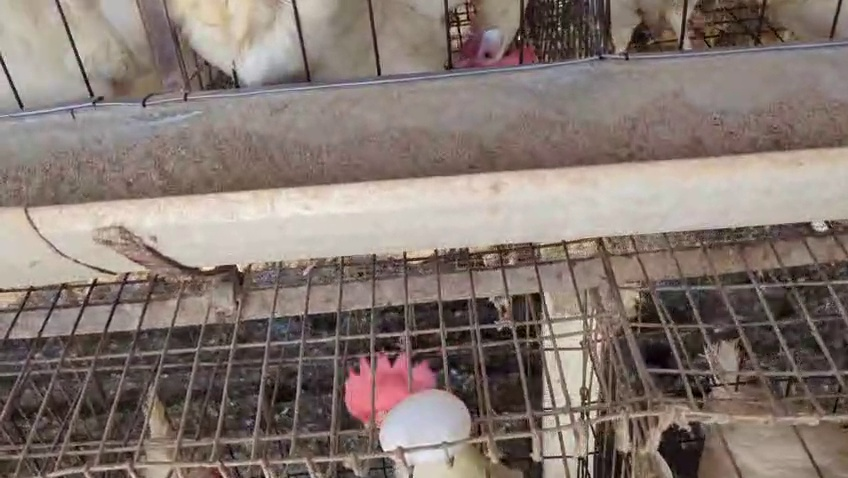egg: (350, 375, 488, 468)
